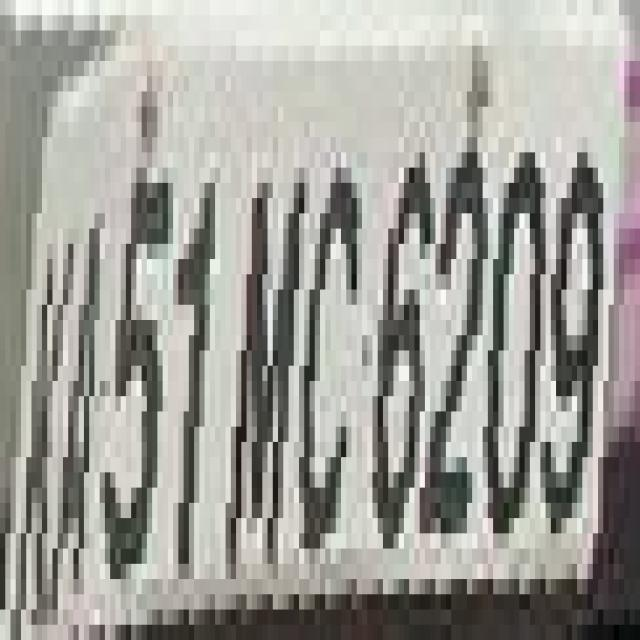license_plate: (0, 46, 609, 624)
